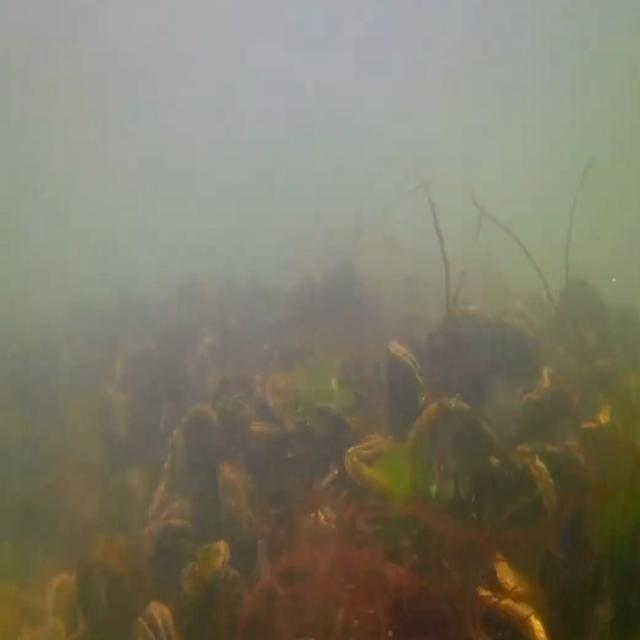Oyster-Closed: (384, 339, 425, 445), (178, 538, 232, 598), (344, 431, 400, 484), (248, 414, 284, 443)
Oyster-Indeterminate: (406, 394, 504, 507), (479, 449, 558, 534), (178, 400, 224, 531), (477, 582, 550, 640), (218, 460, 260, 560), (149, 426, 187, 529), (315, 399, 359, 482), (143, 494, 193, 550), (492, 549, 546, 597)
